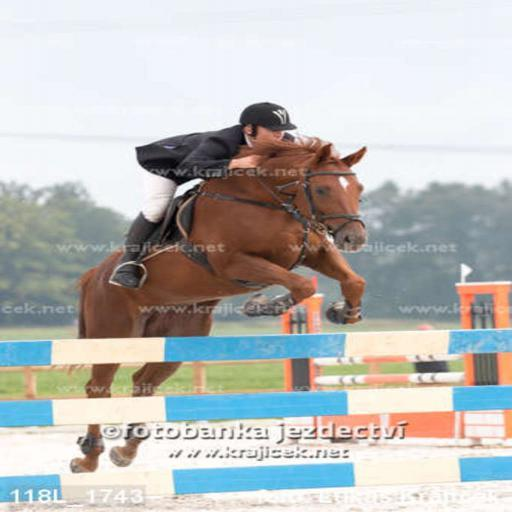Horse: (64, 136, 370, 474)
